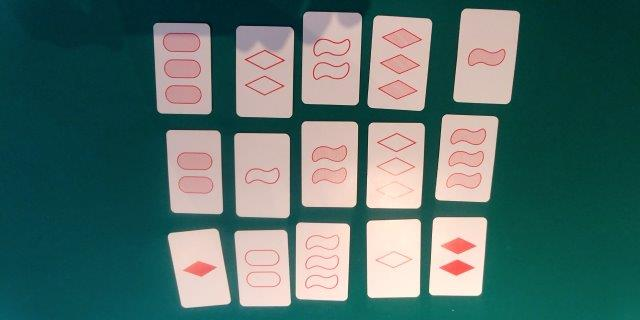1ED: (369, 222, 417, 294)
1EW: (236, 137, 285, 213)
1FD: (180, 234, 218, 301)
1HW: (462, 12, 509, 100)
2ED: (239, 29, 290, 113)
2EP: (241, 233, 285, 304)
2EW: (305, 16, 356, 101)
2FD: (434, 221, 481, 292)
2HP: (171, 131, 218, 210)
2HW: (301, 124, 354, 203)
3ED: (371, 126, 420, 205)
3EW: (299, 225, 345, 299)
3HD: (374, 20, 423, 105)
3HP: (158, 25, 206, 111)
3HW: (442, 119, 489, 198)
